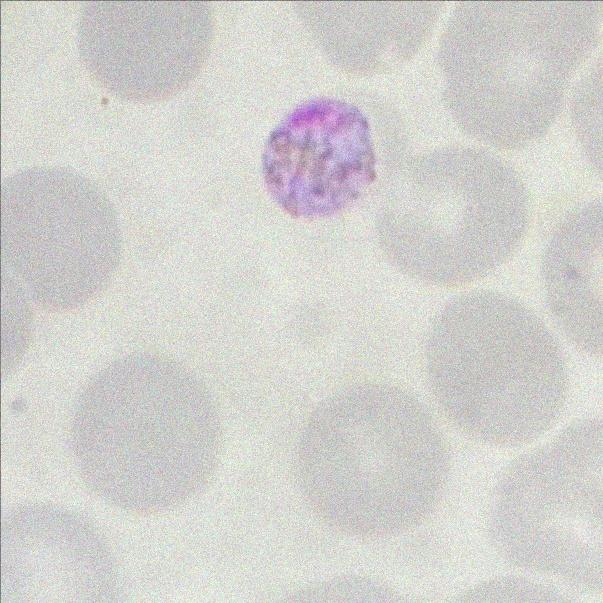Infected: (263, 96, 394, 219)
Uninfected: (68, 347, 225, 518), (442, 0, 603, 149), (428, 289, 567, 448), (298, 386, 444, 536), (483, 421, 603, 599), (380, 146, 529, 289), (0, 164, 116, 314), (80, 0, 209, 105)
